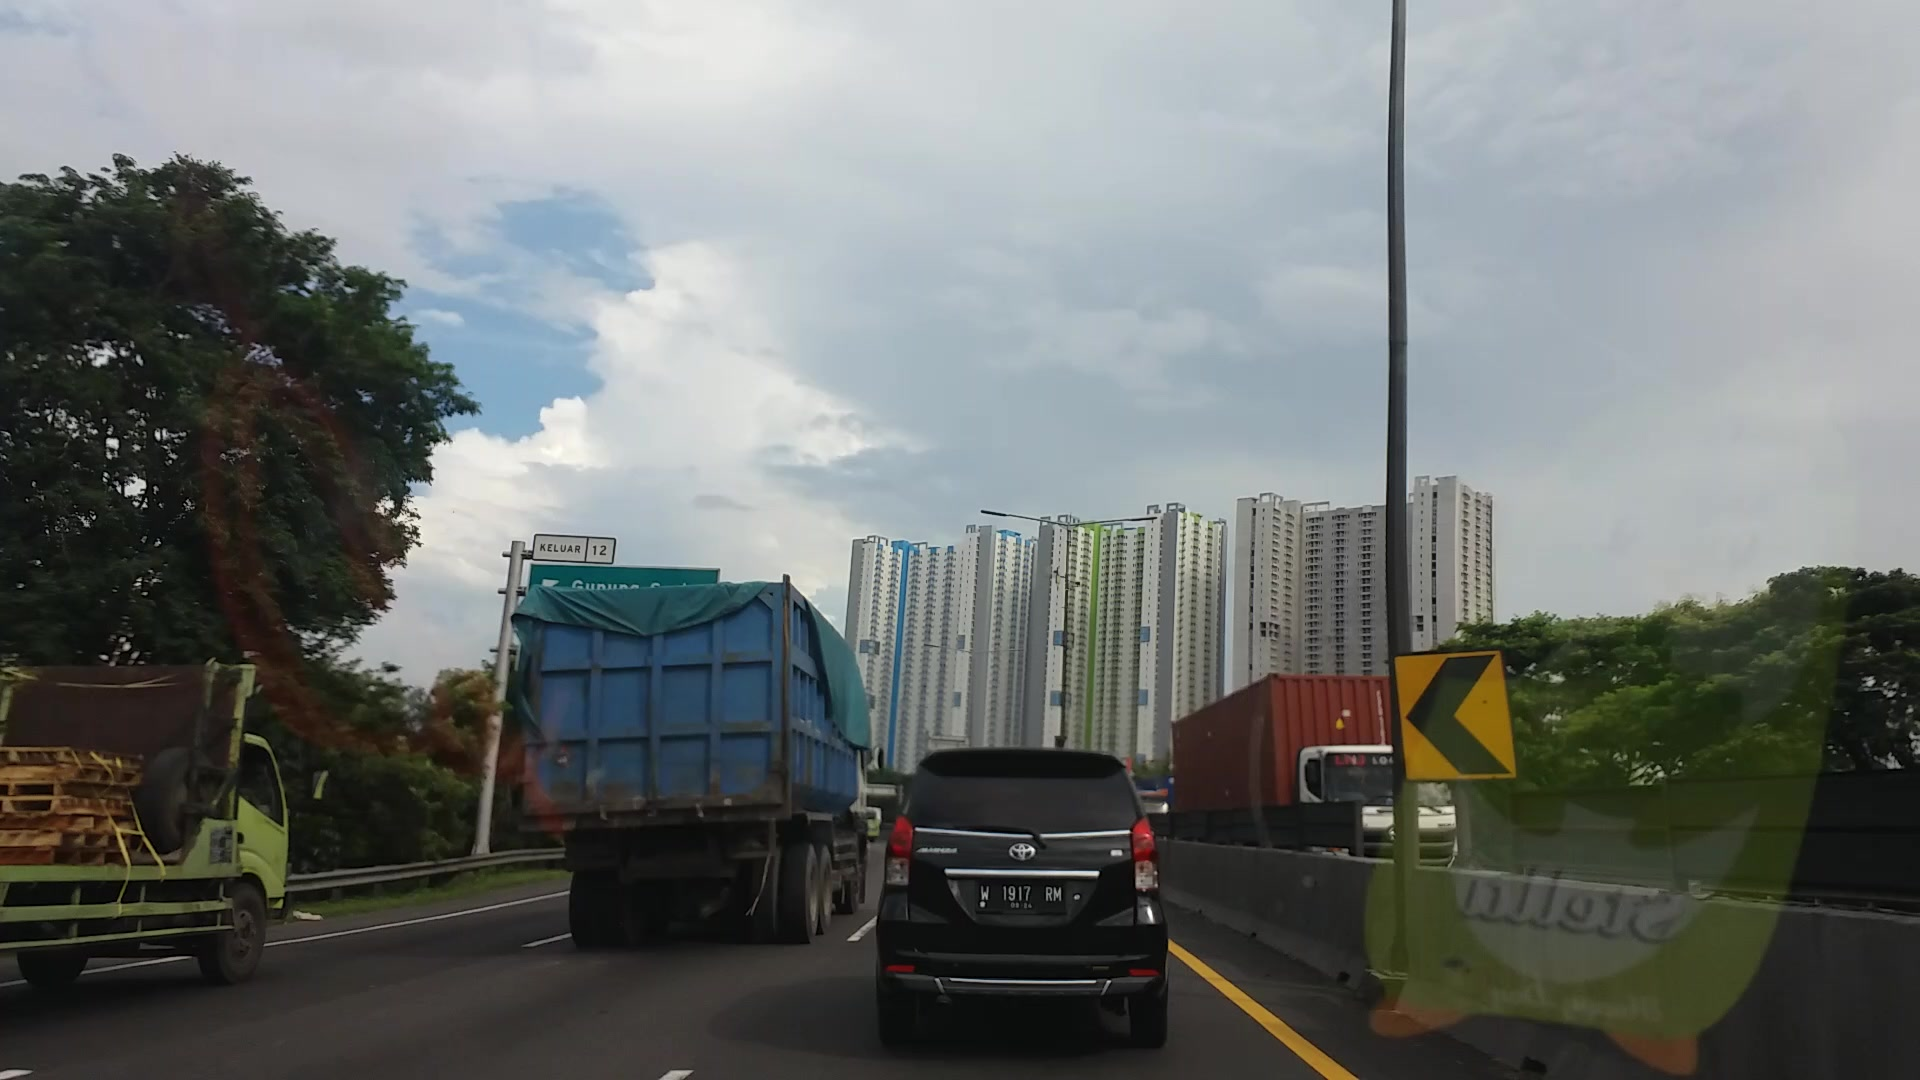plate_positive: (977, 880, 1065, 913)
